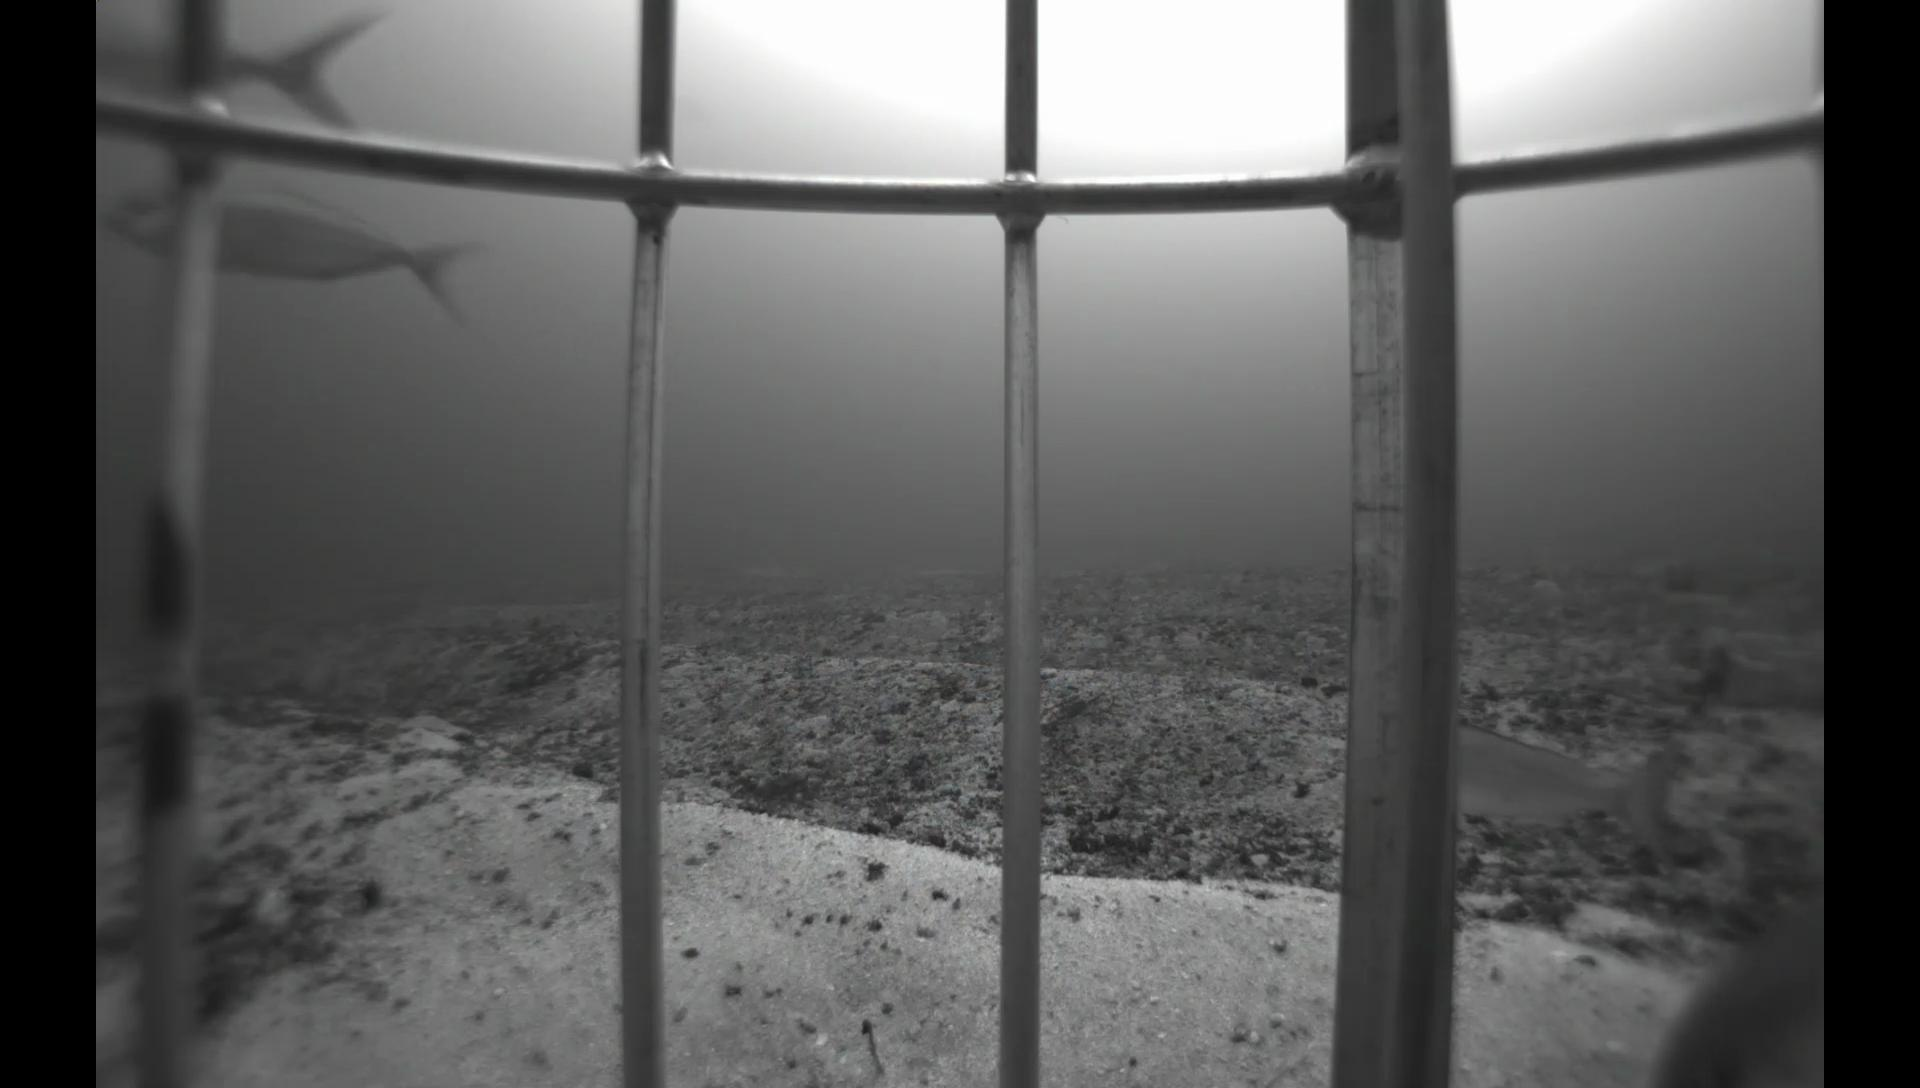RHOMBOPLITESAURORUBENS-170152001: (1458, 710, 1702, 878), (1640, 869, 1822, 1088)
SERIOLAFASCIATA-170113103: (103, 167, 497, 340), (96, 3, 401, 145)
